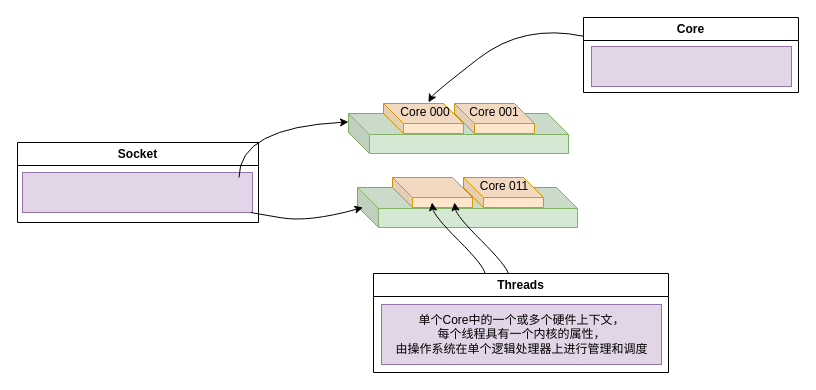
Image size: 816x390. Some labels were removed from this diagram. Here are the shapes that lost their labels. From the top down, the box of each, then its label:
(590, 46, 792, 86): 执行程序所需的寄存器、执行单元 的完整集合
(22, 172, 252, 212): 主板上的一个物理封装处理器的插座 (每个处理器可以包含一个或多个Core)
(392, 176, 472, 208): Core 010
